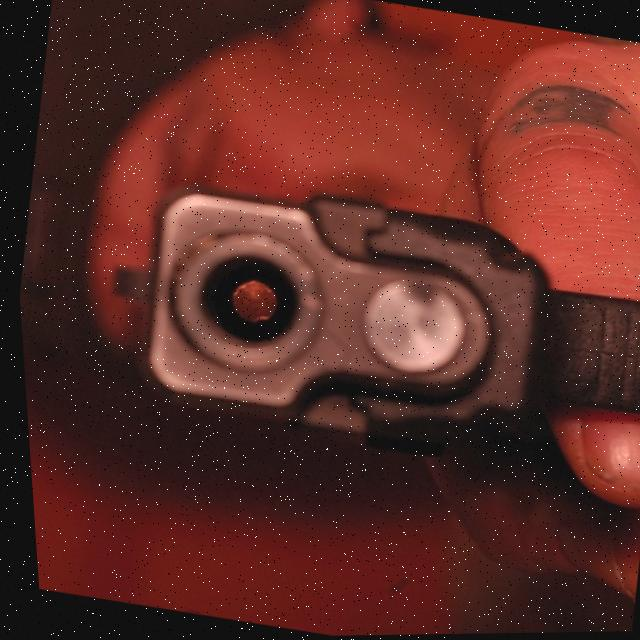pistol: (69, 145, 640, 503)
